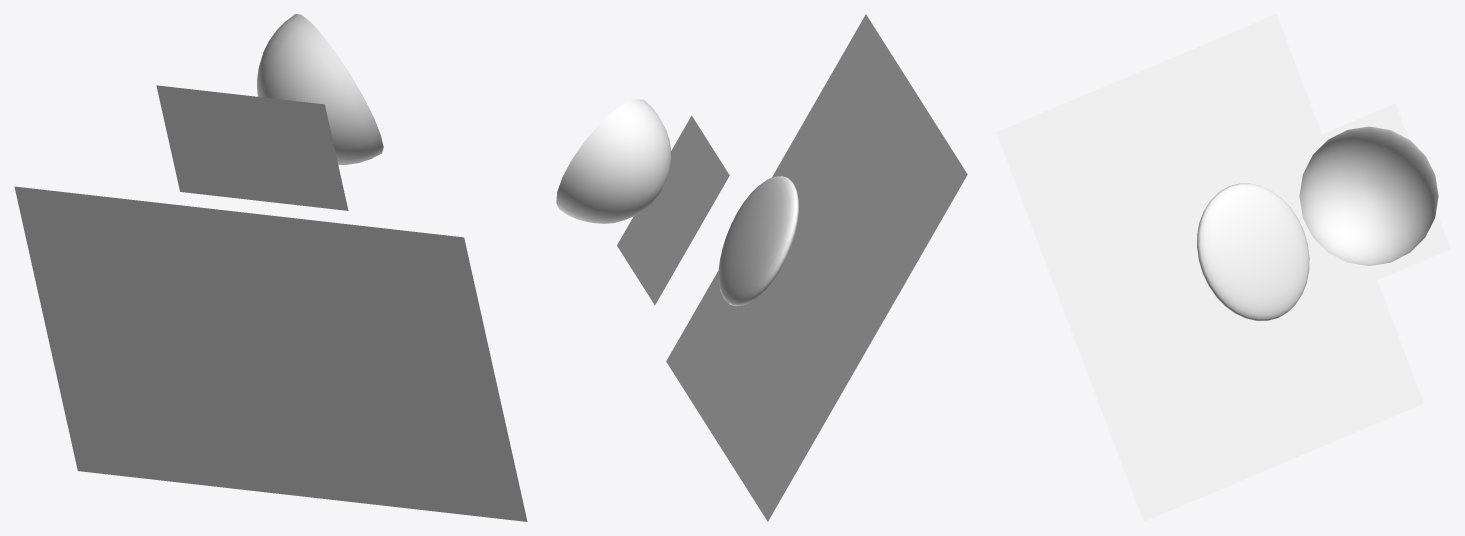
Rendered from MOON.fbx.
3 renders of one model, left to right at view 1: azimuth 30°, elevation 25°; view 2: azimuth 150°, elevation 25°; view 3: azimuth 270°, elevation 25°, orthographic. The views are drawn at different scales.
Parts seen in each view (by area): view 1: Moon_Light, Moon_Light (1), Moon (2); view 2: Moon_Light, Moon (2), Moon_Light (1), Moon (1); view 3: Moon_Light, Moon (2), Moon (1), Moon_Light (1).
Part boxes in pixels (box(x1,y1,x2,y2)): Moon_Light: box(14, 186, 527, 521); Moon_Light (1): box(156, 85, 348, 210); Moon (2): box(257, 14, 383, 164); Moon_Light: box(666, 14, 967, 521); Moon (2): box(556, 98, 670, 223); Moon_Light (1): box(617, 115, 729, 304); Moon (1): box(718, 176, 798, 306); Moon_Light: box(996, 14, 1423, 521); Moon (2): box(1299, 126, 1438, 265); Moon (1): box(1197, 183, 1309, 320); Moon_Light (1): box(1290, 103, 1450, 293).
Size of the model in its own units: 7.39 by 6.88 by 7.85.
3 materials, 1 textured.
